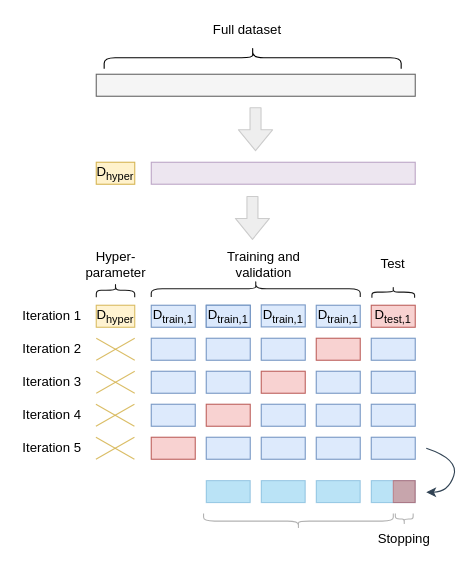
The diagram is 474 pixels wide and 569 high, and some of its shapes have lost their labels. Here are the shapes that lost their labels. From the top down, the box of each, then its label:
(95, 73, 415, 96): D total
(150, 161, 415, 184): D cv
(203, 512, 393, 529): Estimation
